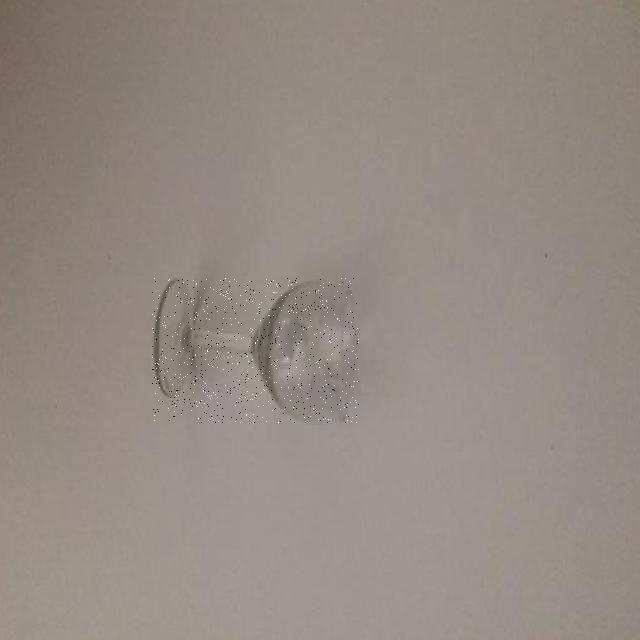glass: (153, 278, 359, 423)
